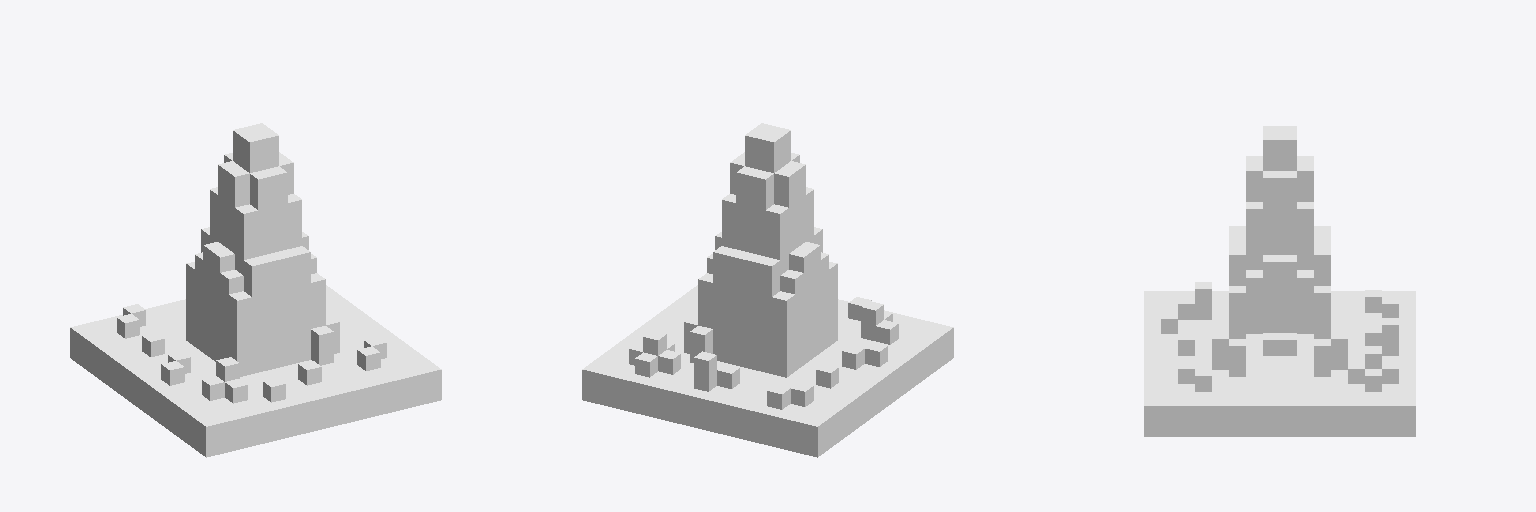
The model's file is Temple_1.obj.
The picture shows the model from 3 angles: view 1: azimuth 30°, elevation 25°; view 2: azimuth 150°, elevation 25°; view 3: azimuth 270°, elevation 25°; orthographic projection.
Parts seen in each view (by area): view 1: object 1; view 2: object 1; view 3: object 1.
Part boxes in pixels (x1,y1,x2,y2): object 1: (70,123,441,457); object 1: (582,123,953,457); object 1: (1144,126,1415,436).
Bounding box in the file's own units: 1.6 × 1.6 × 1.6.